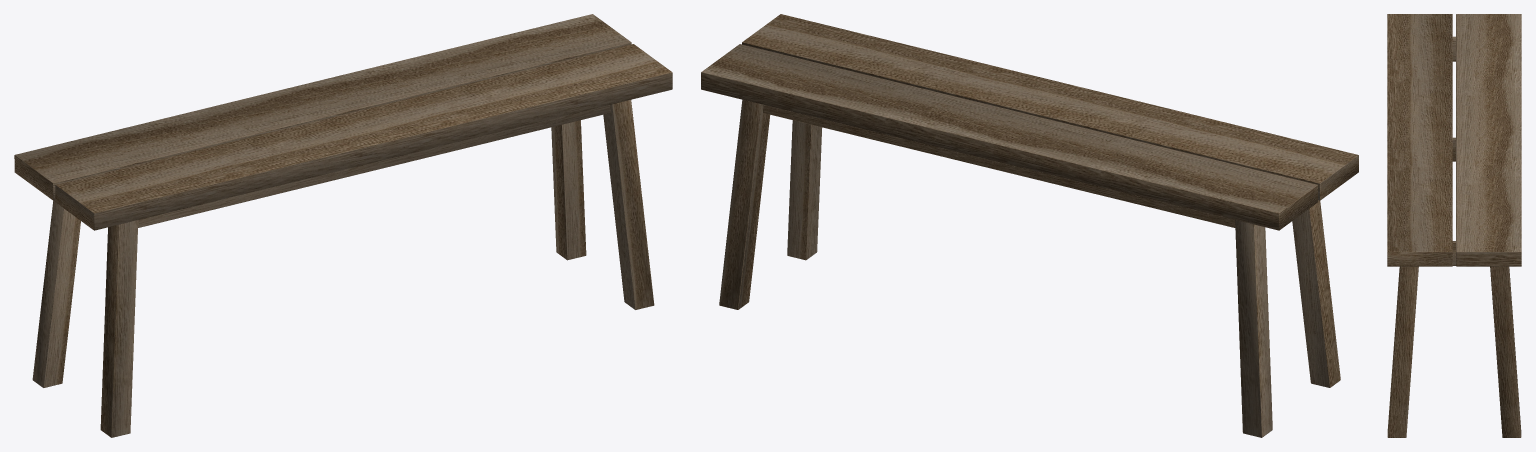
The model's file is 9bff6a18-14e1-4442-aa22-6d7bb686d776.glb.
3 renders of one model, left to right at view 1: azimuth 30°, elevation 25°; view 2: azimuth 150°, elevation 25°; view 3: azimuth 270°, elevation 25°, orthographic. The views are drawn at different scales.
Visible parts, largest first — view 1: Wooden Bench; view 2: Wooden Bench; view 3: Wooden Bench.
Boxes of the visible parts, box(x1,y1,x2,y2) form: Wooden Bench: box(14, 14, 672, 437); Wooden Bench: box(701, 14, 1358, 437); Wooden Bench: box(1387, 14, 1521, 437).
Size of the model in its own units: 1.2 by 0.4549 by 0.2869.
Materials: 1 (1 with a texture image).
